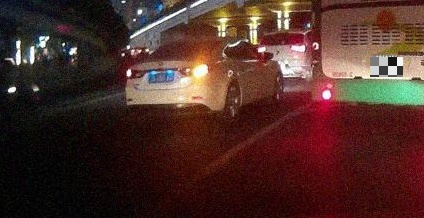L_light: (126, 66, 147, 79), (257, 46, 267, 53)
R_light: (179, 65, 214, 78), (290, 44, 306, 53)
T_light: (176, 42, 193, 45), (279, 33, 289, 35)
night-no: (257, 31, 307, 83)
night-right: (125, 37, 224, 124)
plate_1: (370, 57, 403, 77)
